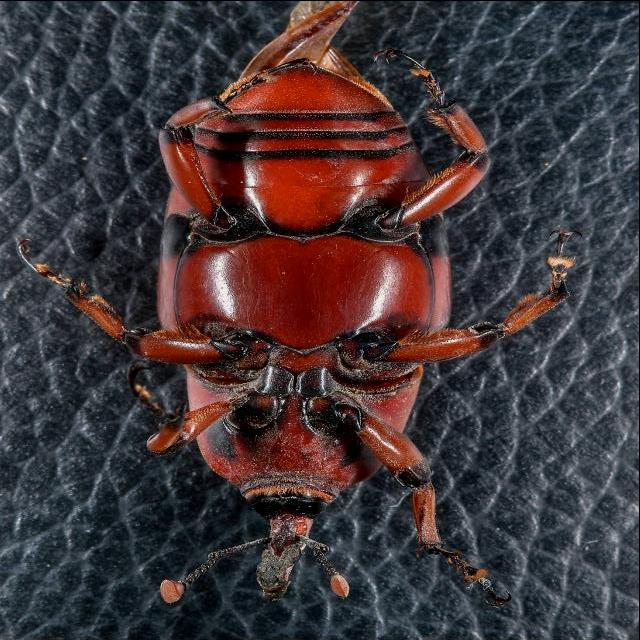Red-palm-weevil: (110, 18, 479, 617)
